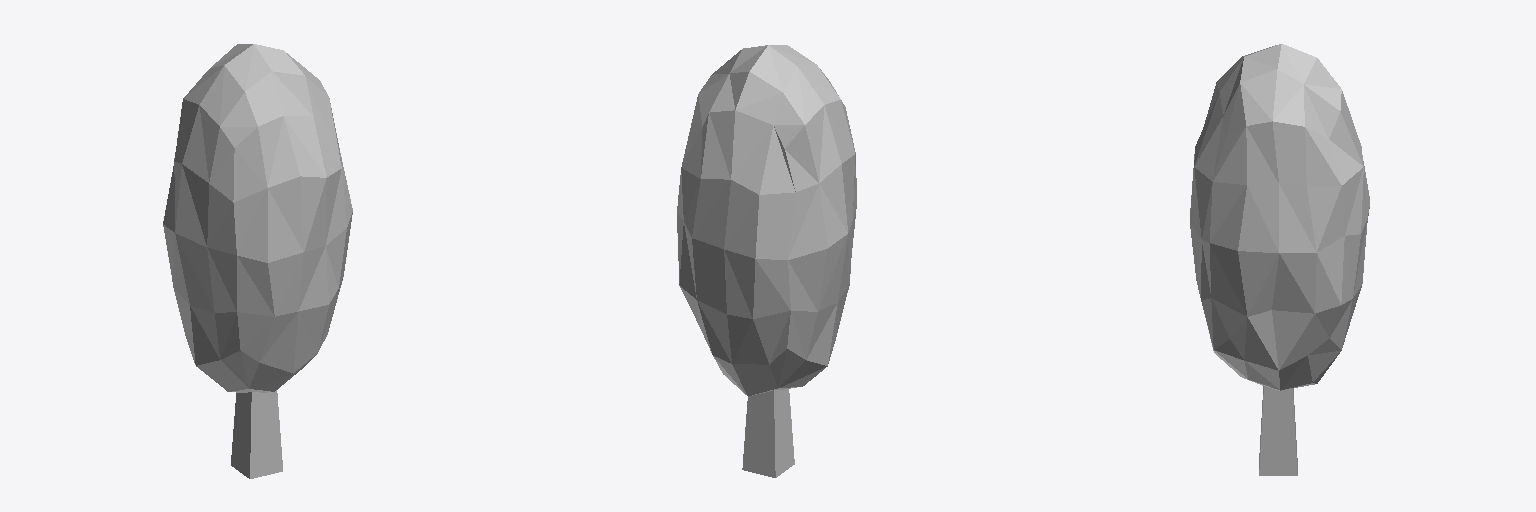
Rendered from Tree2.obj.
3 renders of one model, left to right at view 1: azimuth 30°, elevation 25°; view 2: azimuth 150°, elevation 25°; view 3: azimuth 270°, elevation 25°, orthographic.
Parts seen in each view (by area): view 1: TreeLeaves2, TreeTrunk; view 2: TreeLeaves2, TreeTrunk; view 3: TreeLeaves2, TreeTrunk.
Part boxes in pixels (x1,y1,x2,y2): TreeLeaves2: (163, 44, 352, 392); TreeTrunk: (231, 390, 282, 478); TreeLeaves2: (677, 45, 856, 395); TreeTrunk: (742, 389, 794, 477); TreeLeaves2: (1190, 44, 1369, 390); TreeTrunk: (1259, 386, 1297, 475).
Size of the model in its own units: 2.9 by 7.28 by 2.82.